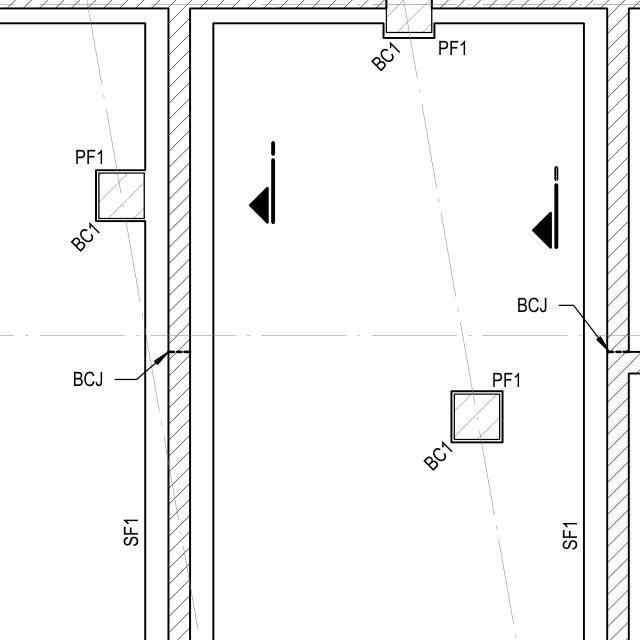BC1: (369, 36, 404, 72), (72, 219, 106, 253), (428, 434, 452, 470)
BCJ: (515, 290, 554, 317)
PF1: (432, 29, 474, 63), (71, 136, 118, 165), (481, 363, 526, 388)
SF1: (550, 512, 579, 566), (115, 500, 143, 548)
